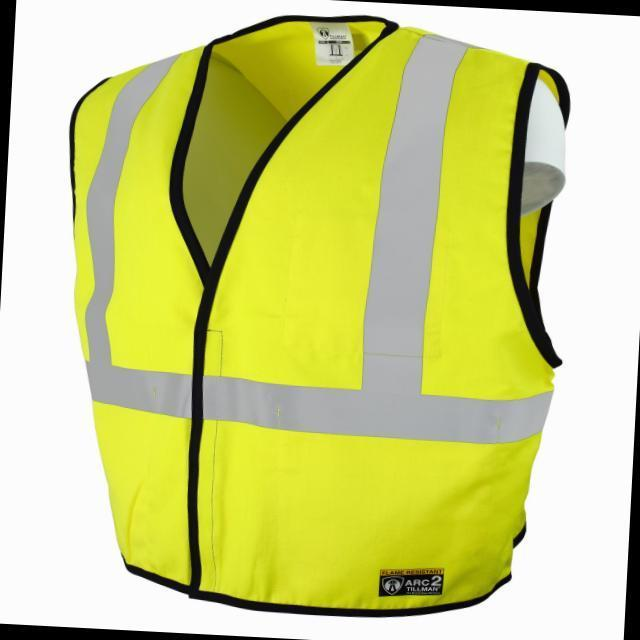vest: (44, 18, 584, 621)
